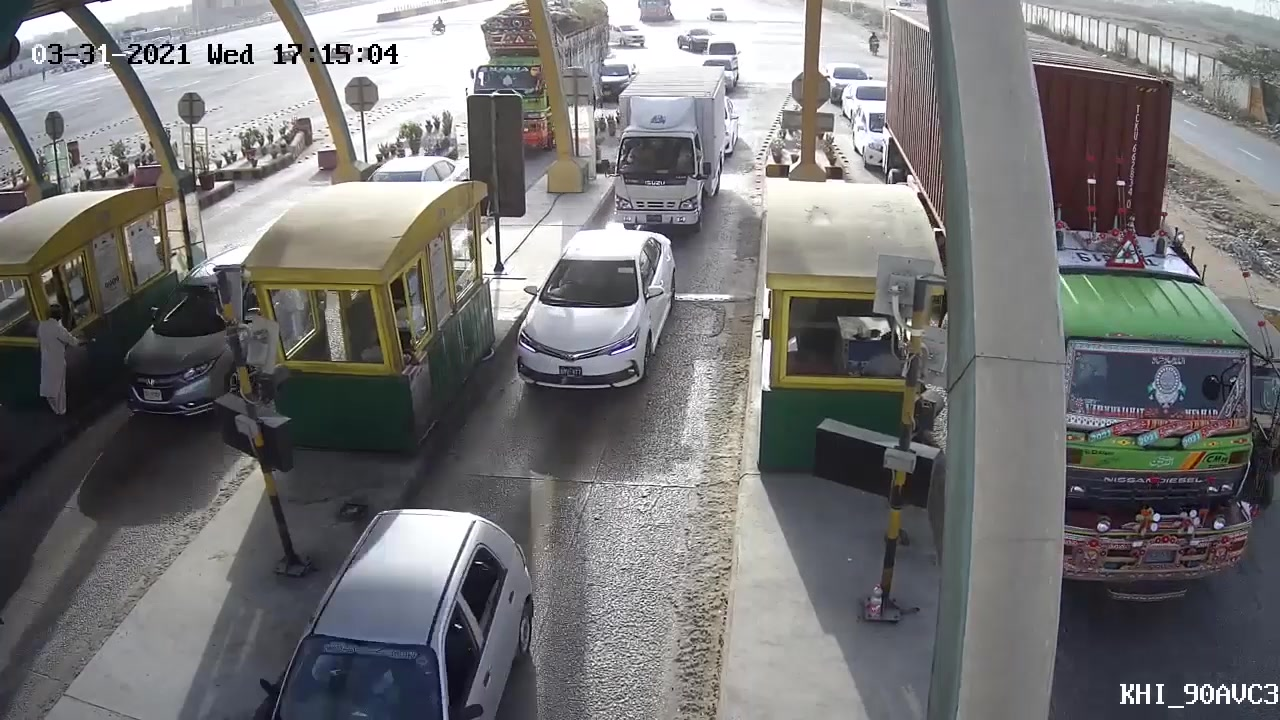F1: (516, 224, 679, 403)
F3: (611, 62, 724, 230)
